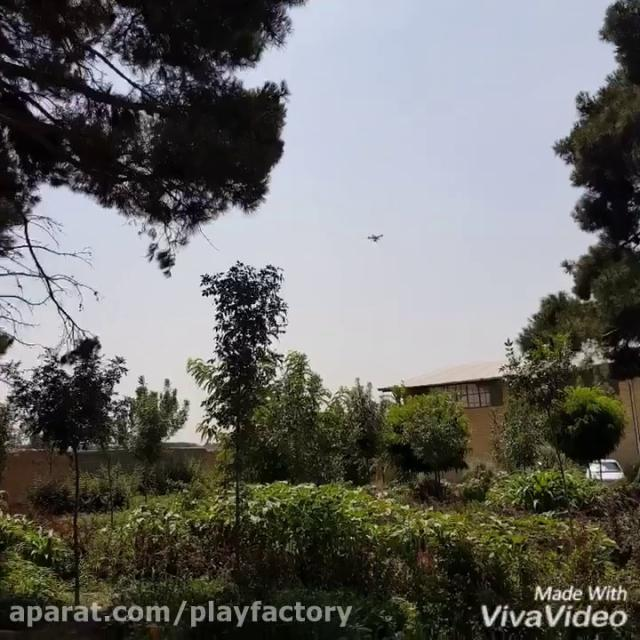drone: (360, 227, 388, 248)
